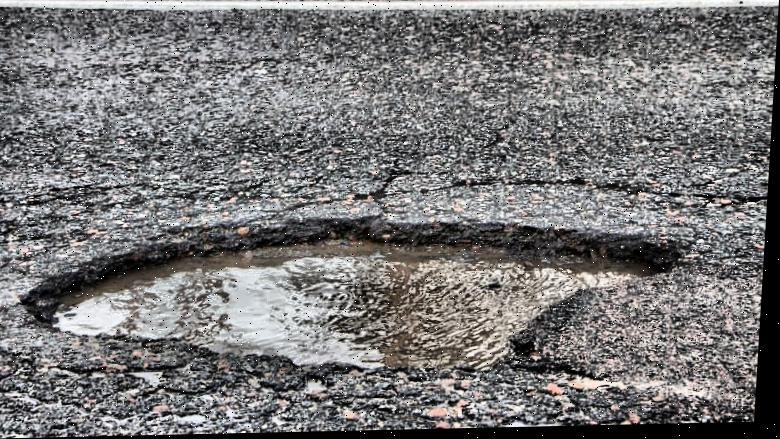pothole: (18, 203, 692, 395)
